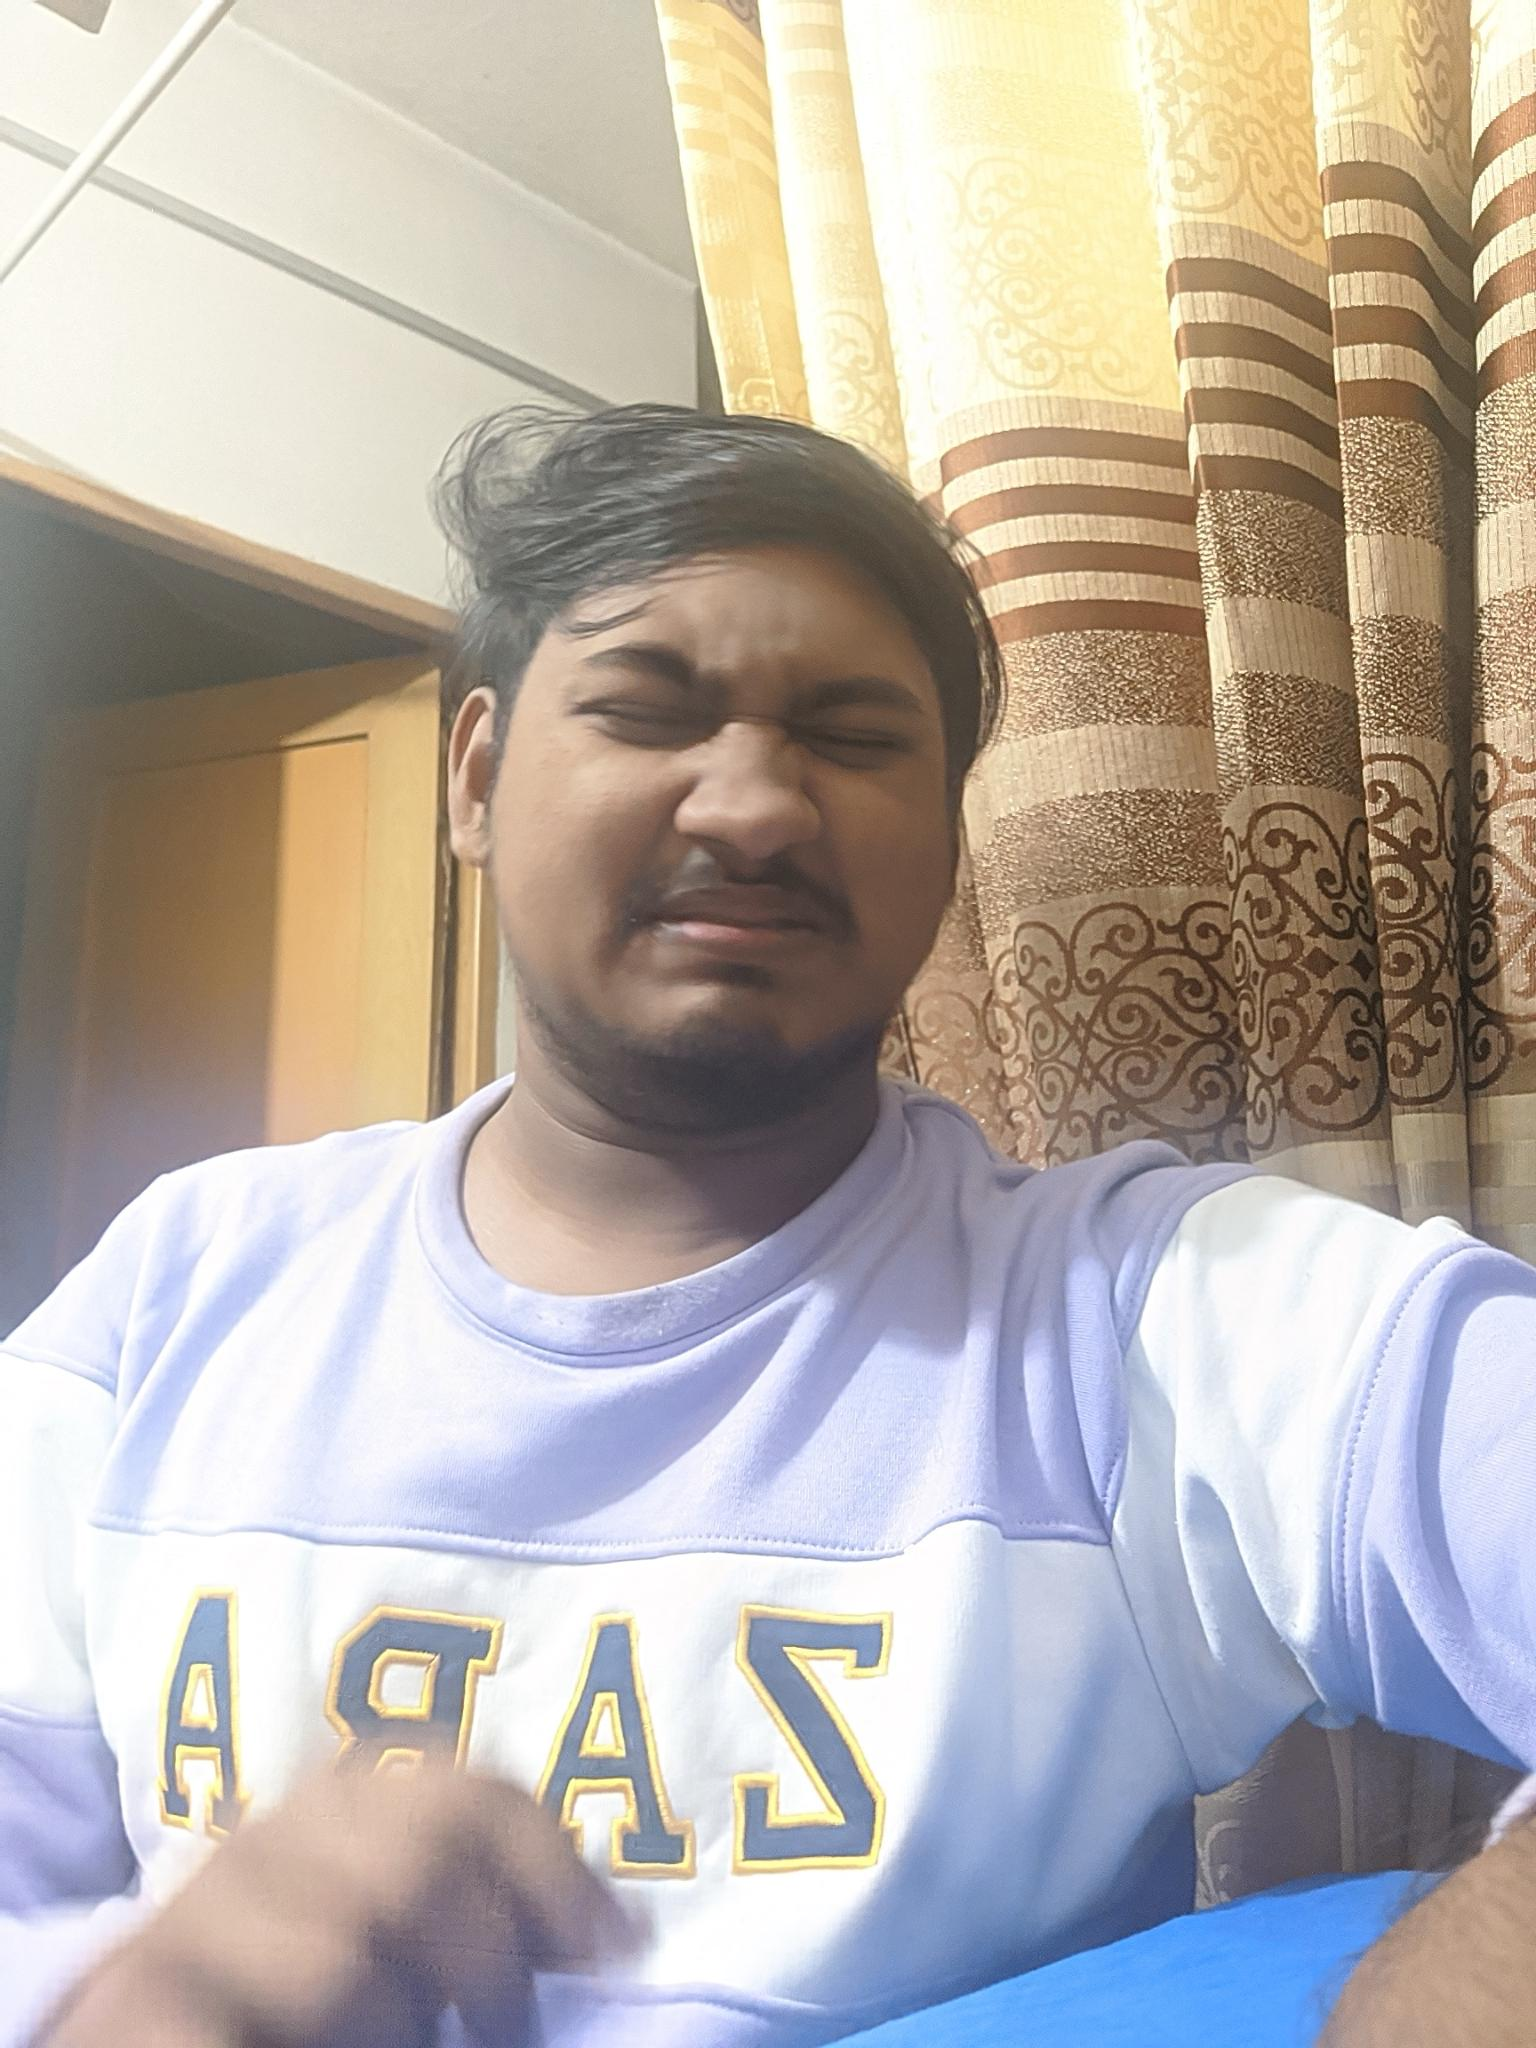Disgust: (529, 589, 952, 1084)
